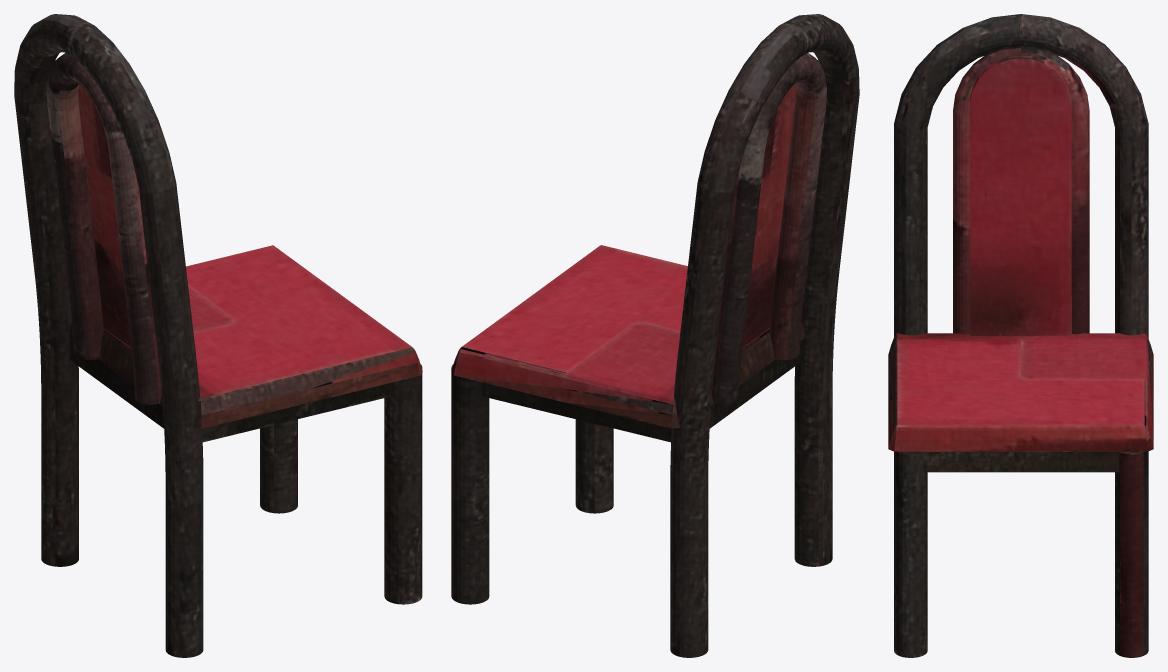
3 views of the same model, side by side, from view 1: azimuth 30°, elevation 25°; view 2: azimuth 150°, elevation 25°; view 3: azimuth 270°, elevation 25° (orthographic). The views are drawn at different scales.
Parts seen in each view (by area): view 1: Node; view 2: Node; view 3: Node.
Boxes of the visible parts, bbox=[...] form: Node: bbox=[14, 14, 422, 657]; Node: bbox=[451, 14, 859, 657]; Node: bbox=[888, 14, 1153, 657].
Bounding box in the file's own units: 0.3602 × 0.7 × 0.3212.
Materials: 1 (1 with a texture image).
